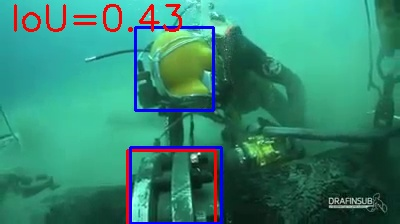flange joint: (128, 151, 215, 224)
